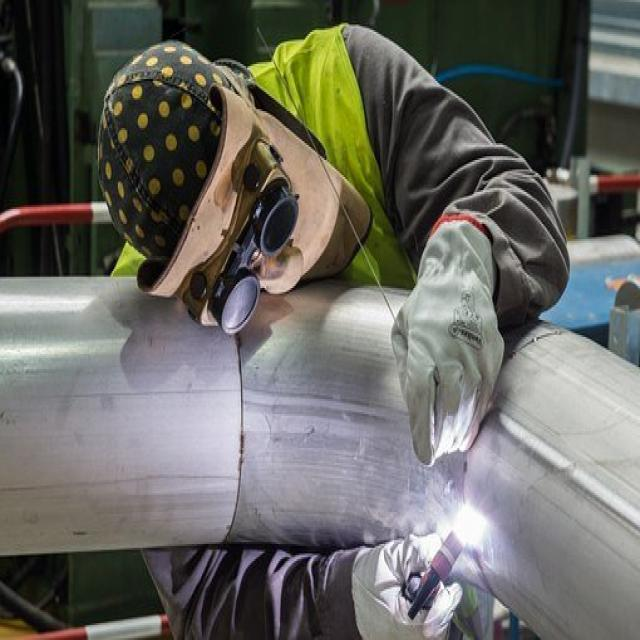with_helmet: (100, 42, 372, 324)
